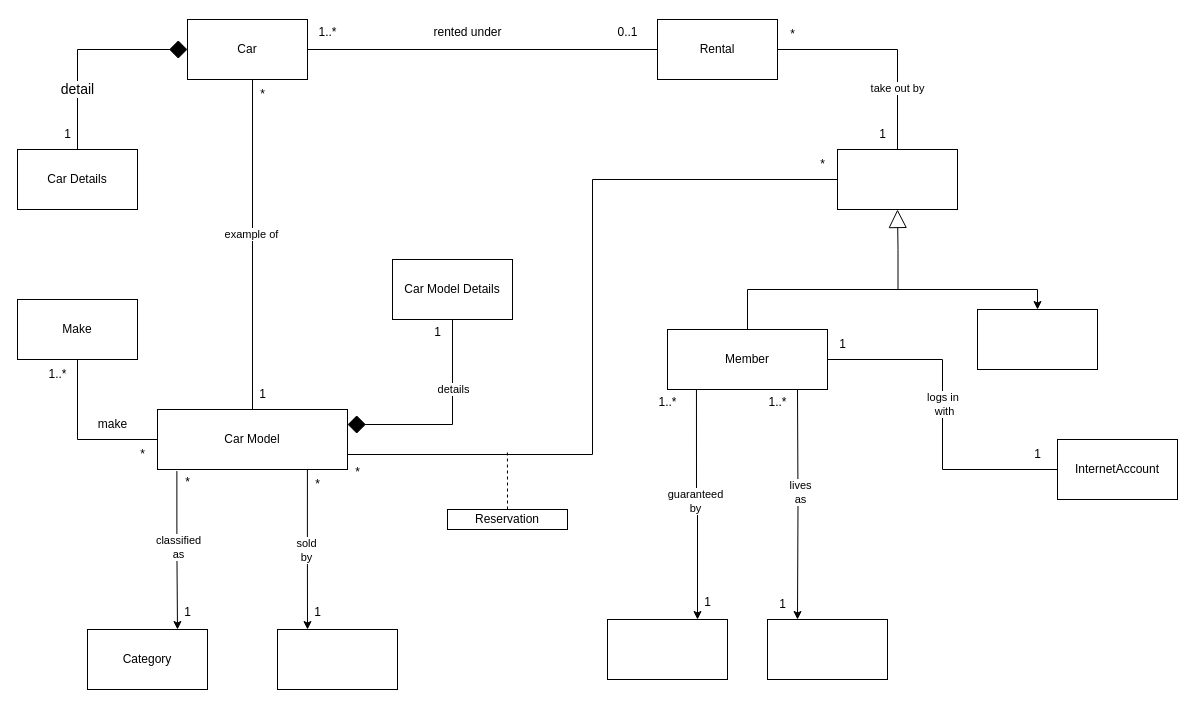
Image size: 1195x707. Some labels were removed from this diagram. Each missing label, with the centre of its shape:
AddDress: [827,649]
Credit Card: [667,649]
Customer: [897,179]
NonMember: [1037,339]
Vendor: [337,659]
